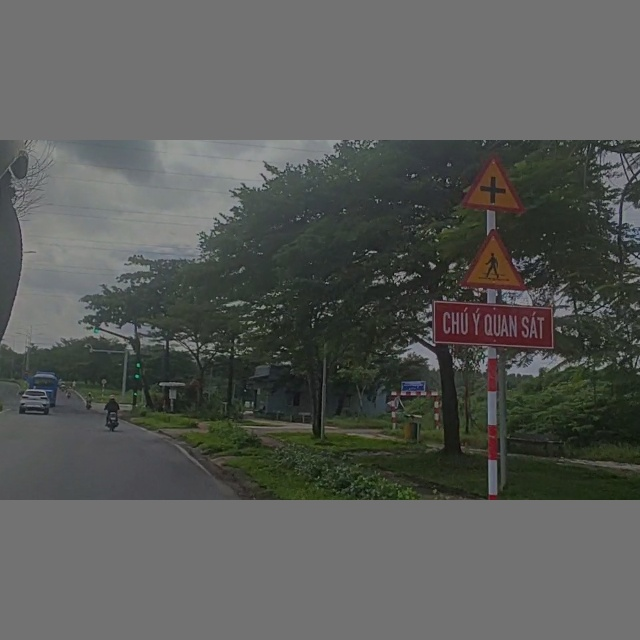W.205a: (459, 151, 533, 216)
W.224: (456, 228, 537, 295)
